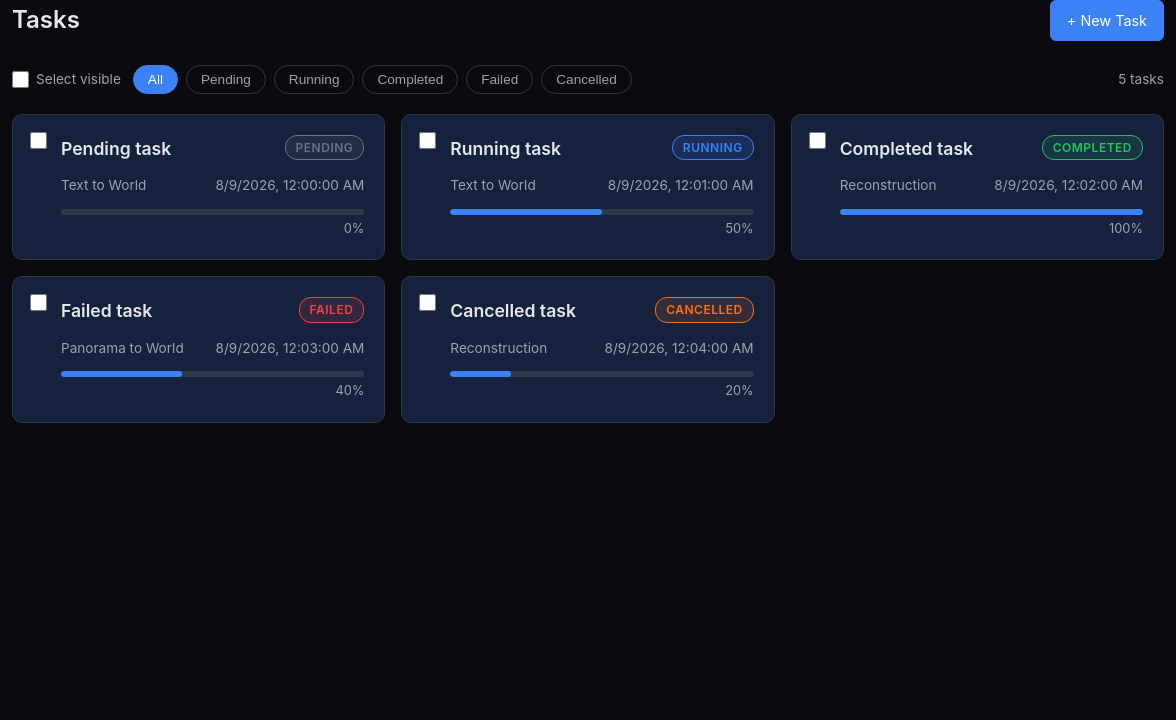
Scenario: TaskList batch actions › selects visible tasks and shows status-aware action counts
The image size is (1176, 720).
Expected: the heading "Tasks" is shown, [12,1,80,40]
Click the checkbox named "Select visible tasks". click: x=20, y=80
box: [12,71,29,88]
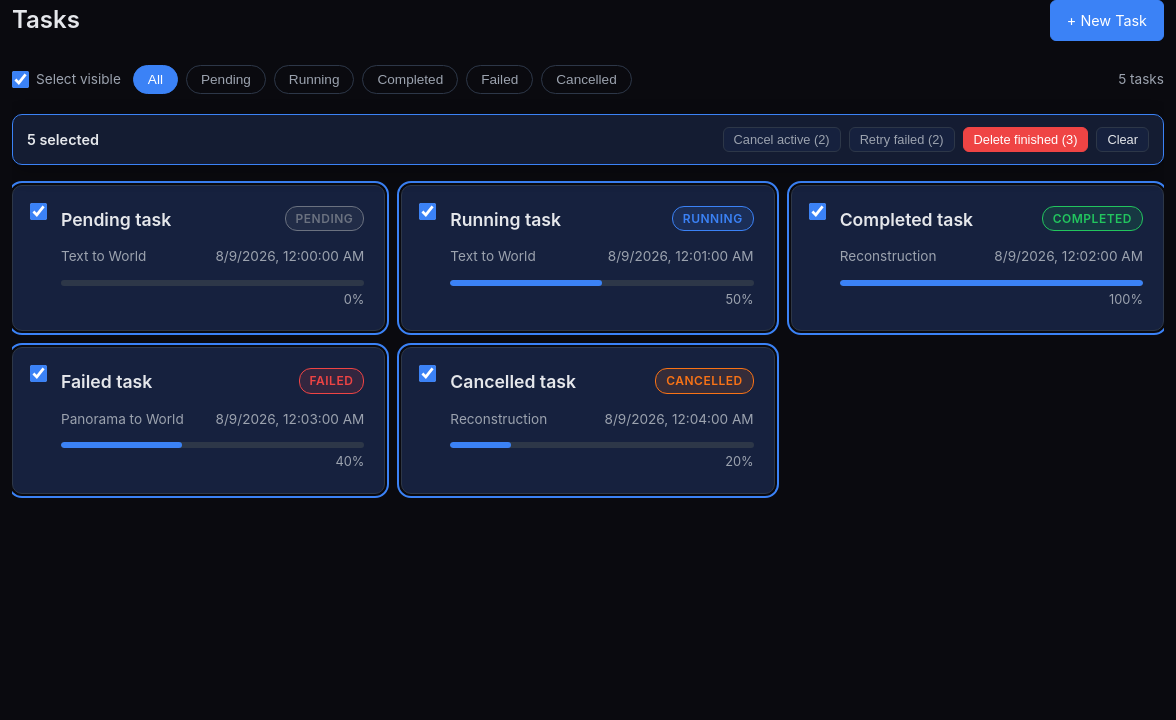
Now the text "5 selected" is shown, box [27,128,99,151]
Now the button "Cancel active (2)" is enabled, box [723,127,841,152]
Now the button "Retry failed (2)" is enabled, box [849,127,954,152]
